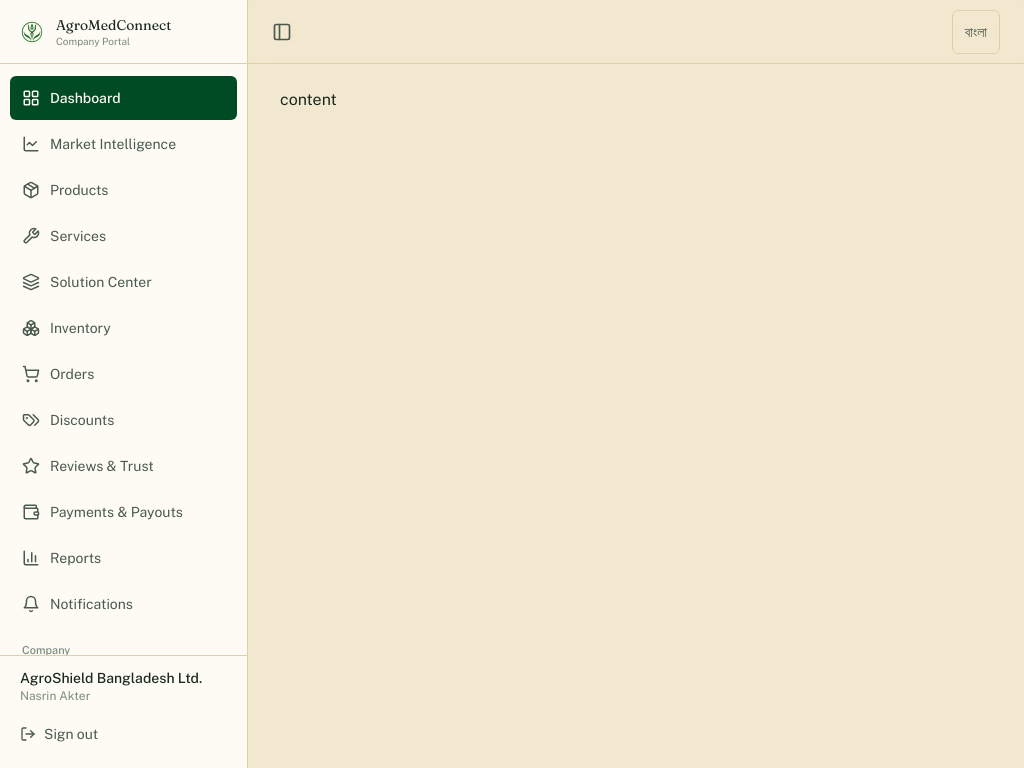
Test: CompanyShell › offers a locale toggle that swaps the whole shell
This screenshot has width=1024, height=768.
Click the button "বাংলা": (976,32) [952,10,1000,54]
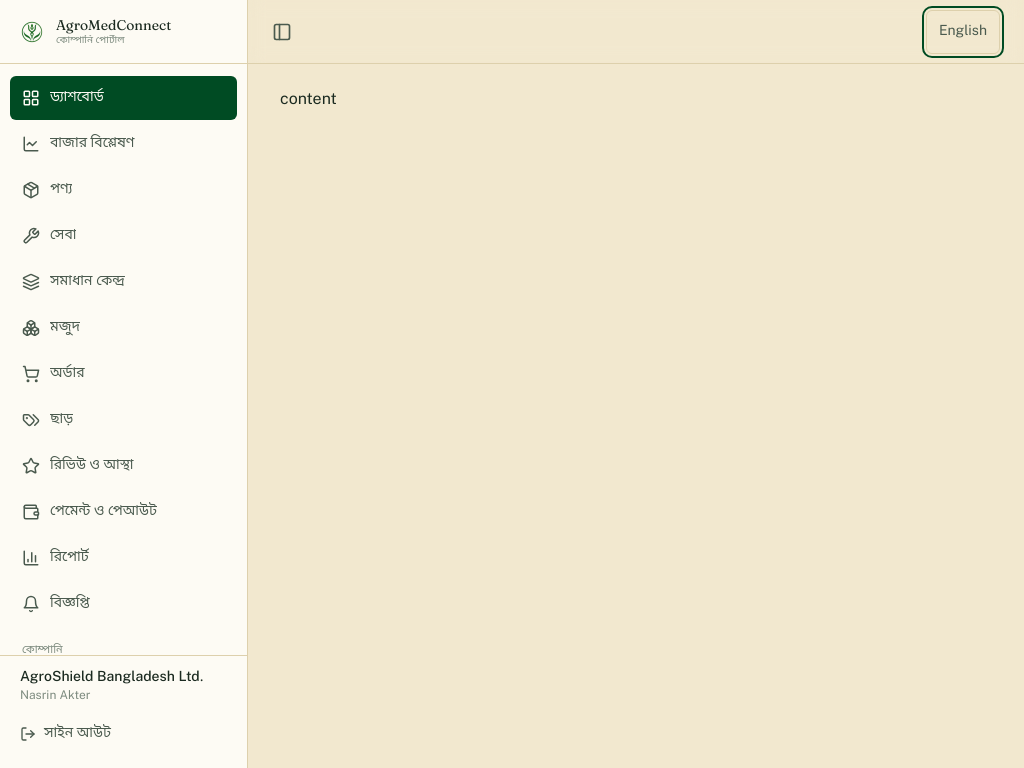
Now the link "অর্ডার" is shown, box [22,364,84,383]
